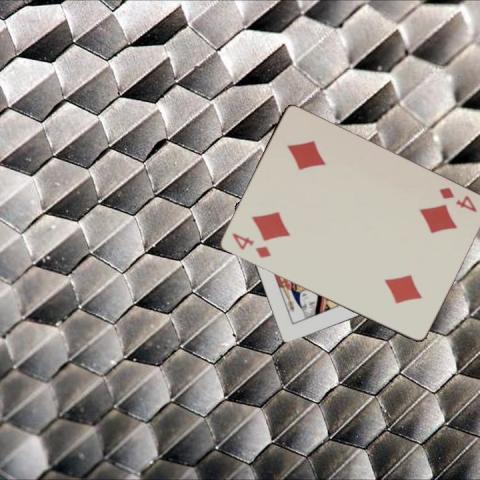4d: (435, 184, 479, 214), (229, 230, 272, 260)
